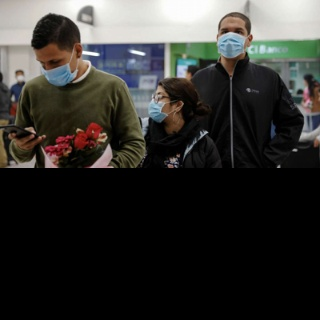with_mask: (36, 55, 76, 90), (216, 25, 248, 60), (148, 90, 177, 124), (16, 72, 24, 84)
